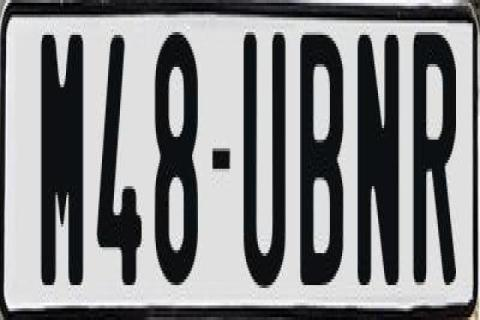0: (96, 35, 148, 291), (156, 23, 206, 280)
B: (298, 35, 348, 299)
M: (40, 32, 88, 288)
N: (354, 32, 396, 282)
R: (411, 26, 461, 291)
U: (244, 26, 292, 291)
